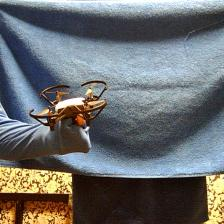drone: (27, 81, 114, 128)
